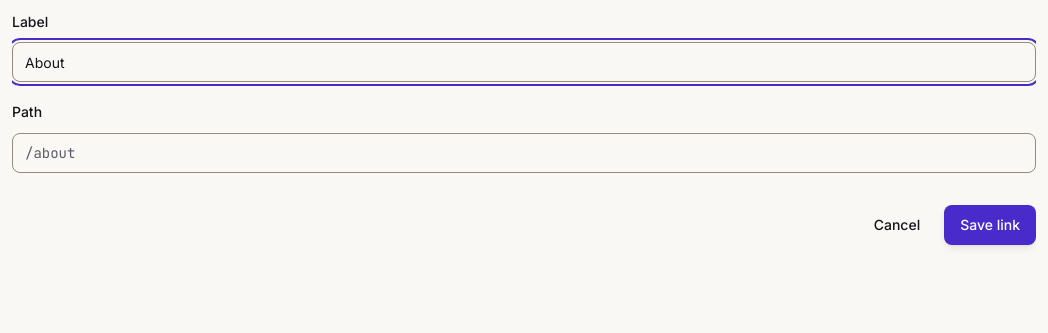
Test case: NavLinkForm › updates the explanation as the path is typed
In the field labelled "Path": (524, 153) [12,133,1036,173], type "/uses"
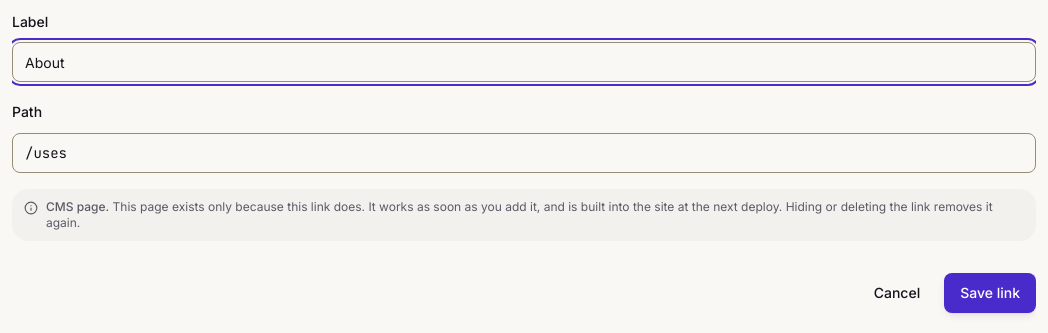
Expected: the text "CMS page." is shown, [46,199,109,214]
